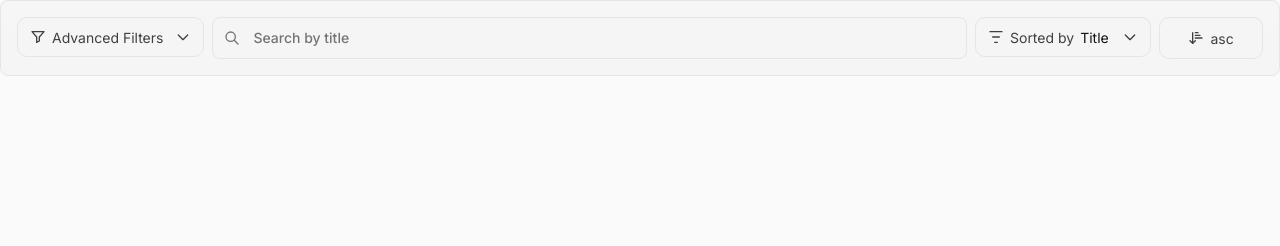
MediaFilterBar movie profile › shows only the three movie status chips
This screenshot has width=1280, height=246.
What coordinates should you click on to do the following:
click the button "Advanced Filters"
I would click on:
 (111, 37)
Its box is [17,17,204,57].
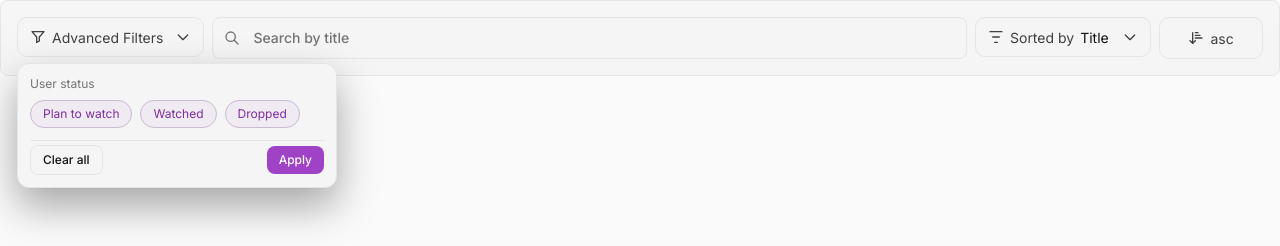
Expected: the elements with class "chip" read "Plan to watch", "Watched", "Dropped", in this order, [30,100,132,128]; [140,100,217,128]; [224,100,300,128]
